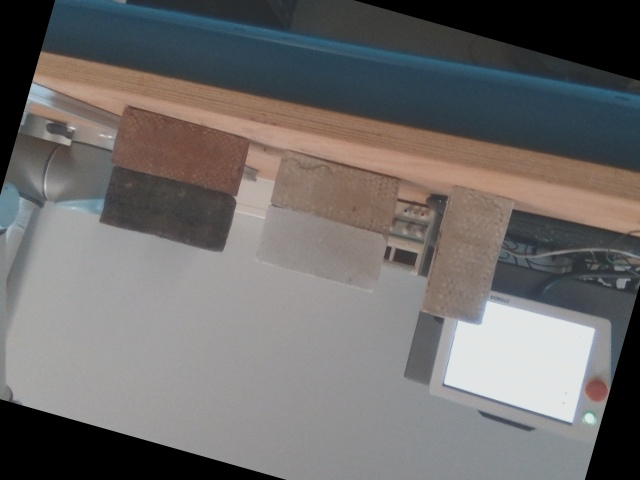brick: (112, 106, 249, 193), (426, 188, 511, 322), (257, 205, 386, 290), (101, 168, 231, 252), (274, 152, 396, 231)
